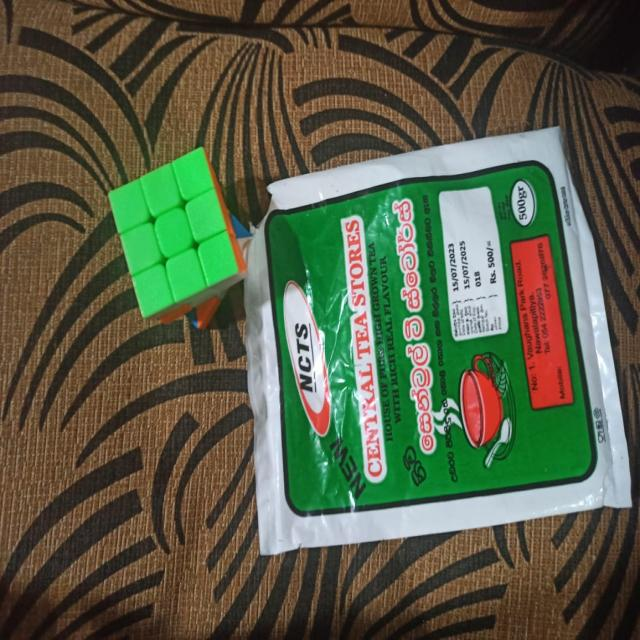Central Tea: (277, 199, 624, 506)
